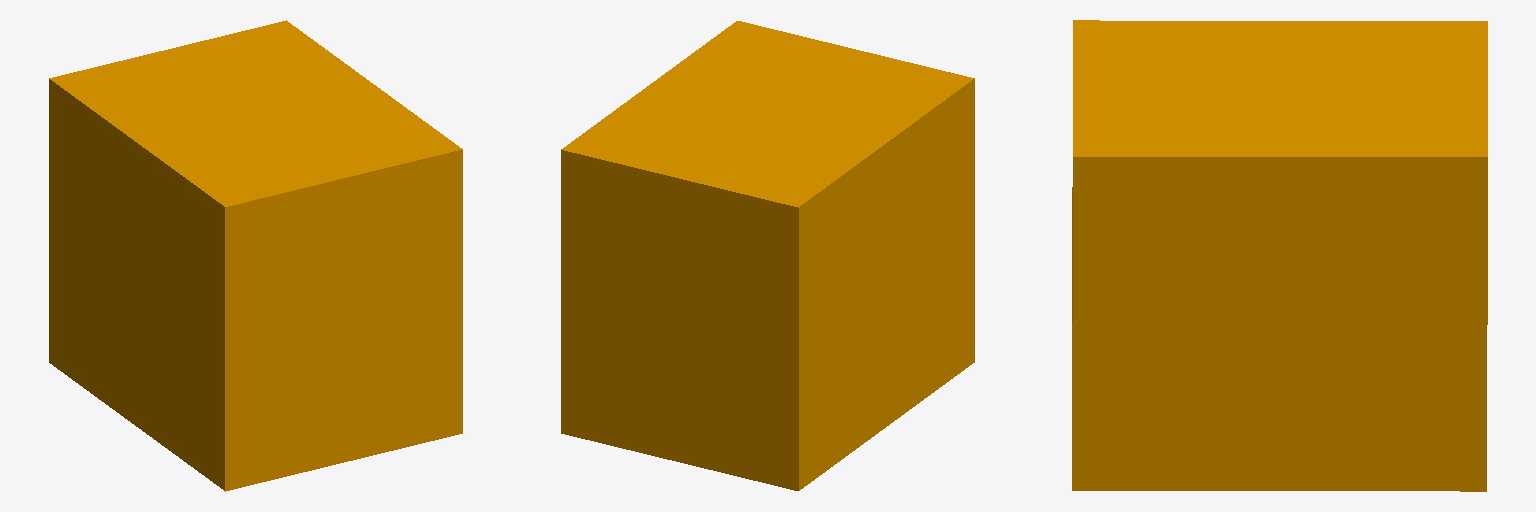
robot.urdf — medium_box:
<?xml version="1.0"?>
<robot name="medium_box">
<link name="medium_box">
    <visual>
      <geometry>
        <mesh filename="package://shipping_experiment/models/cad_models/obj/medium_box.obj"/>
      </geometry>
      <origin rpy="1.57 0 0" xyz="0 0 0"/>
    </visual>
    <collision>
      <geometry>
        <mesh filename="package://shipping_experiment/models/cad_models/obj/medium_box.obj"/>
      </geometry>
      <origin rpy="1.57 0 0" xyz="0 0 -0"/>
      <contact_coefficients mu="1000.0" kp="0.00" kd="0.0"/>
    </collision>

    <inertial>
      <mass value="0.7"/>
      <inertia ixx="0.001" ixy="0.0" ixz="0.0"
               iyy="0.001" iyz="0.0"
               izz="0.001"/>
    </inertial>
</link>

</robot>

--- Render facts (derived) ---
Views: 3 orthographic renders of the robot side by side, from view 1: azimuth 30°, elevation 25°; view 2: azimuth 150°, elevation 25°; view 3: azimuth 270°, elevation 25°.
Robot: medium_box — 1 links, 0 joints (none); root link medium_box; default pose: every joint at zero.
Visible links, largest first — view 1: medium_box; view 2: medium_box; view 3: medium_box.
Link boxes in pixels (<box>): medium_box: <box>49,20,462,491</box>; medium_box: <box>561,21,974,490</box>; medium_box: <box>1072,20,1487,491</box>.
Bounding box of the posed robot: 0.28 × 0.3603 × 0.3203 m (x, y, z).
Meshes: 1 distinct files referenced, 1 mesh visuals loaded (1 OBJ).